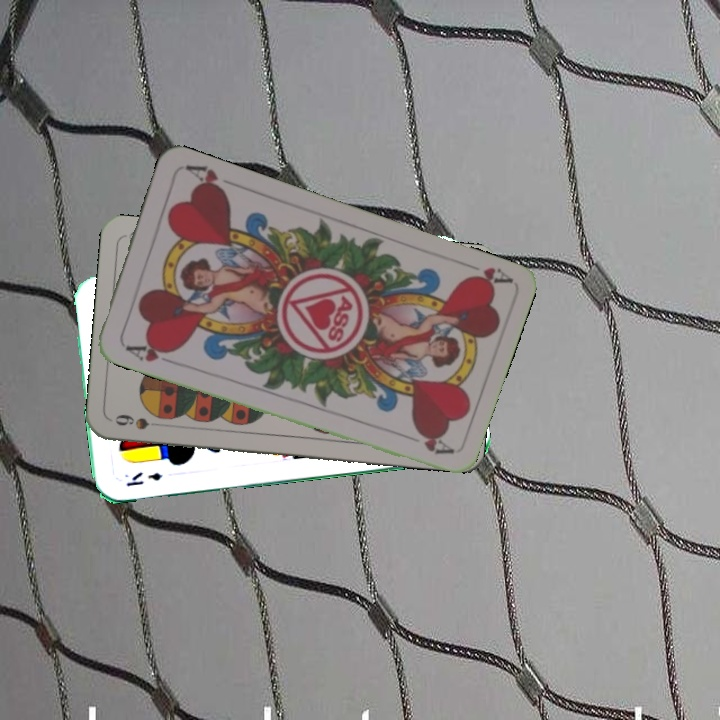EK: (122, 468, 165, 489)
HA: (455, 257, 513, 291), (119, 338, 178, 367)
S9: (111, 410, 169, 432)
